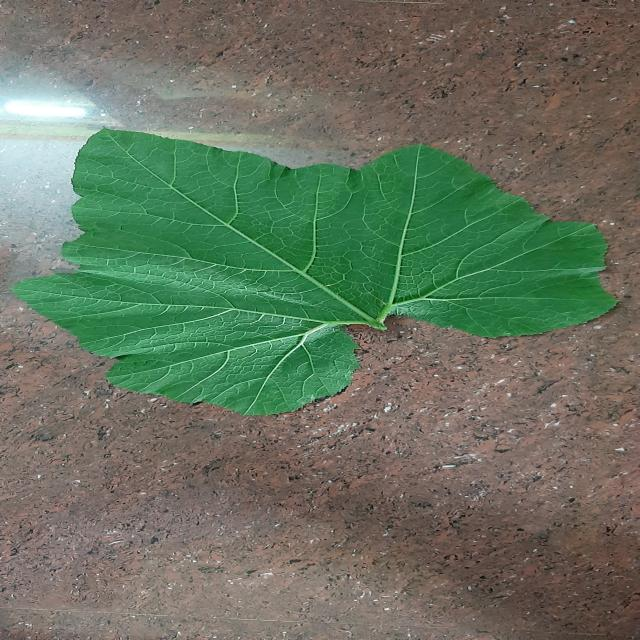pumpkin: (14, 130, 615, 415)
